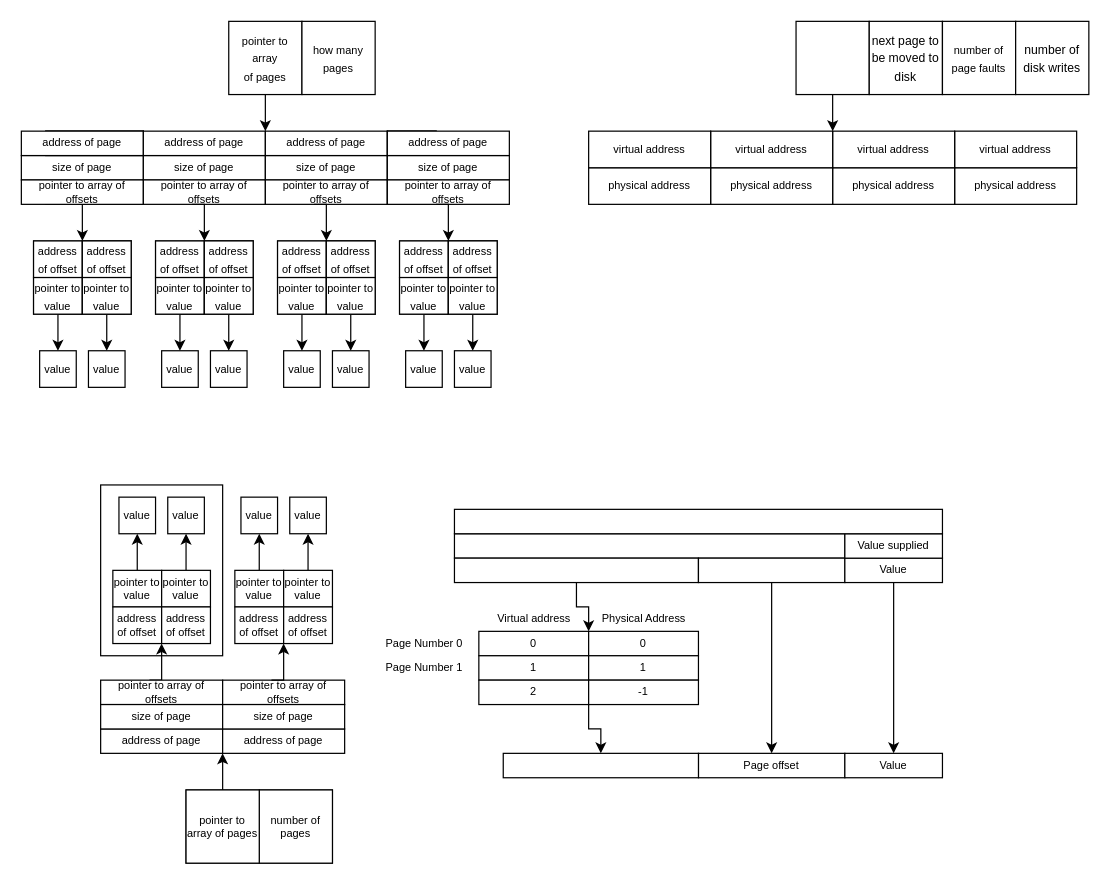
Some shapes in this 1110 by 885 pixel diagram are drawn without their labels. Here are the shapes that lost their labels. From the top down, the centre of each, then its label:
At (x=832, y=57): "pointer to array of page table entries".
At (x=697, y=521): "simulation->virtualMemory->pages[address] = value".
At (x=649, y=545): "Address supplied".
At (x=575, y=570): "Virtual page number (bits 31-12)".
At (x=771, y=570): "Page offset (bits 11-0)".
At (x=600, y=765): "Physical page number".
